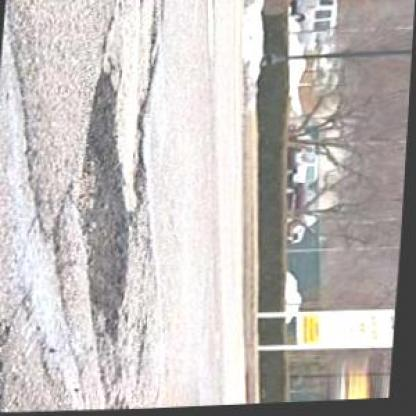pothole: (71, 71, 141, 333)
